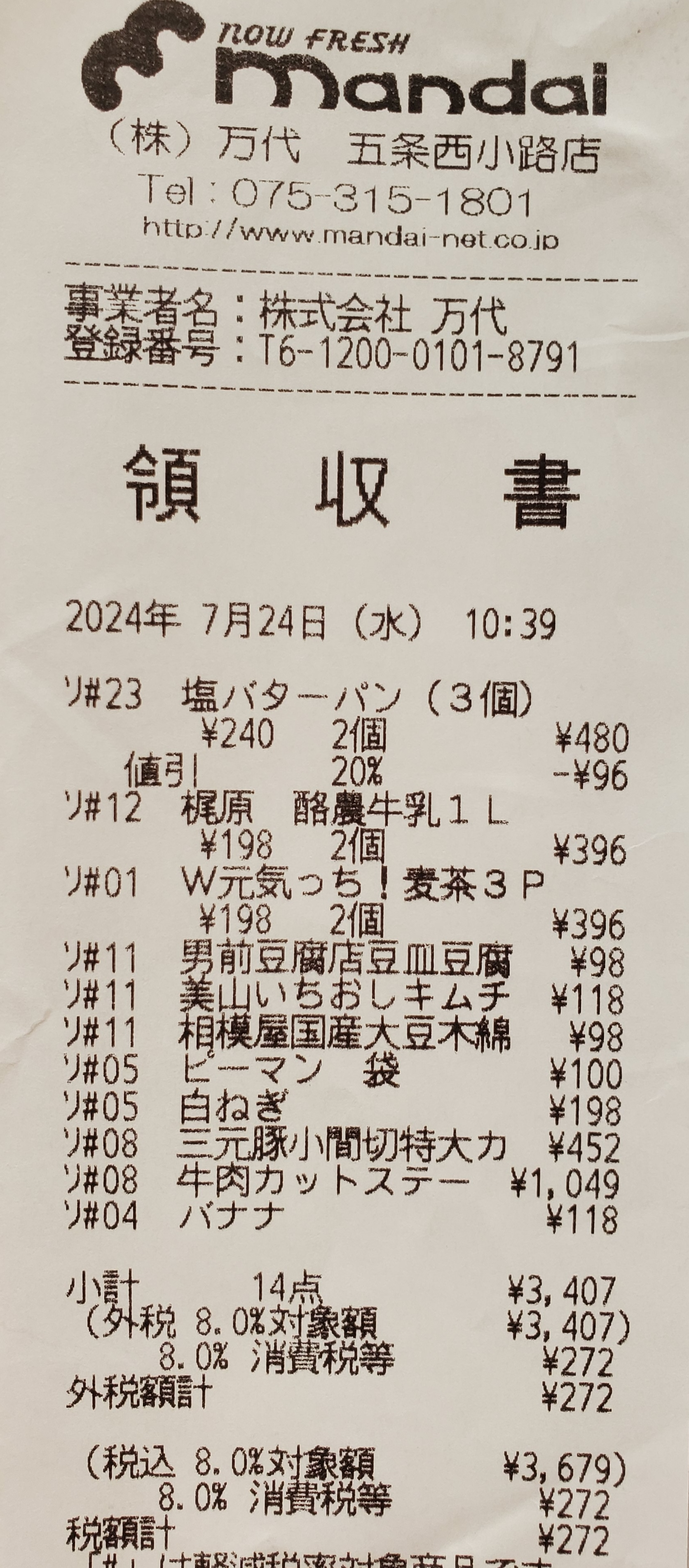Date: (57, 586, 343, 648)
Shopname: (208, 5, 629, 128)
Telnum: (226, 169, 554, 220)
